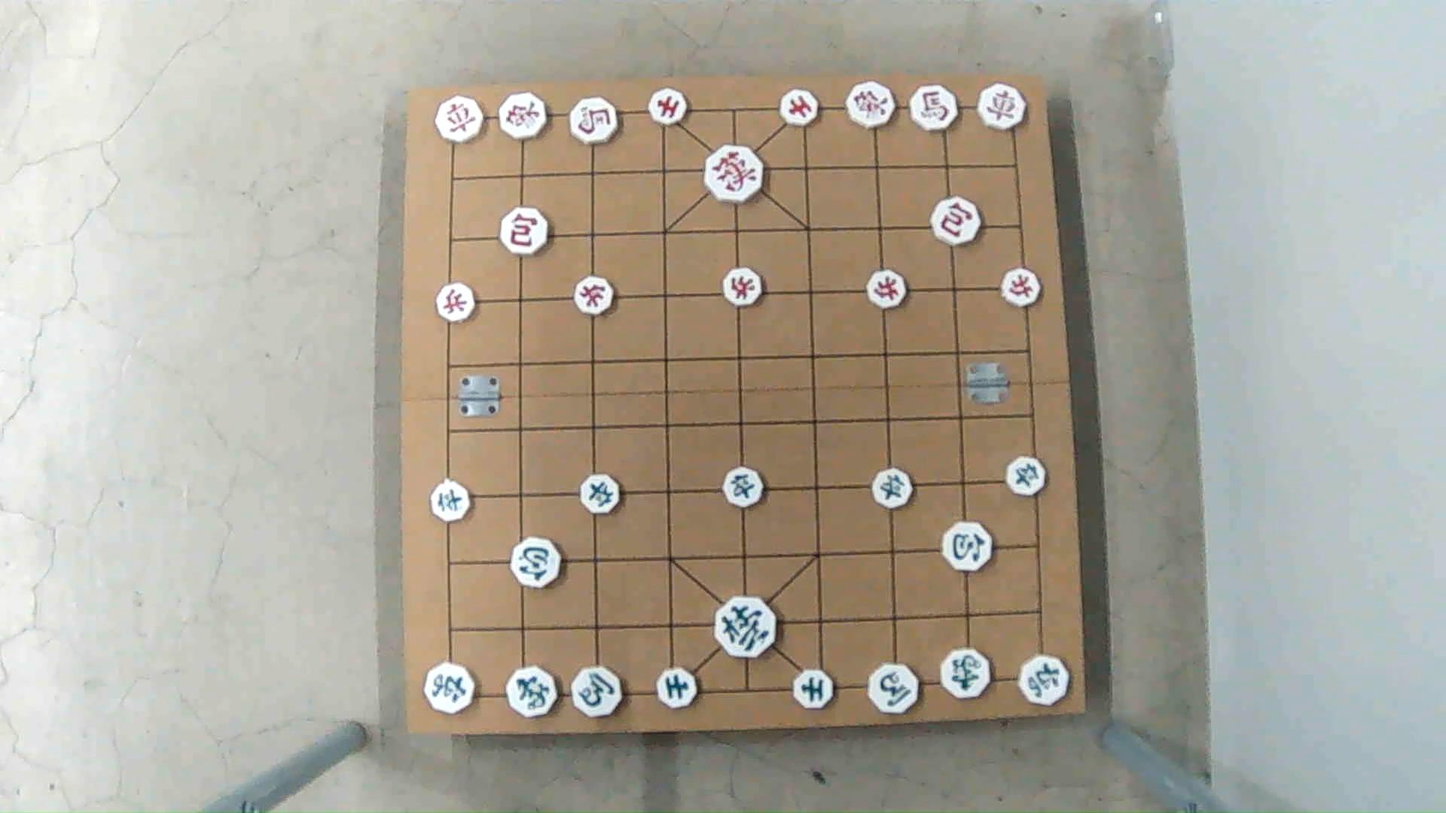cha_green: (424, 660, 474, 712), (1017, 658, 1072, 705)
cha_red: (975, 87, 1028, 130), (433, 100, 486, 142)
jol_green: (869, 469, 917, 504), (580, 478, 626, 514), (720, 471, 764, 507), (431, 485, 474, 521), (1005, 458, 1048, 494)
jol_red: (721, 269, 765, 305), (865, 271, 910, 306), (433, 287, 479, 321), (999, 271, 1043, 306), (571, 276, 615, 311)
ma_green: (569, 668, 626, 715), (868, 665, 923, 712)
ma_red: (568, 101, 620, 145), (910, 87, 961, 130)
po_green: (938, 525, 992, 570), (511, 540, 565, 584)
po_red: (929, 201, 983, 245), (499, 210, 551, 254)
sa_green: (654, 668, 698, 707), (791, 670, 835, 708)
sa_red: (778, 92, 822, 124), (648, 90, 689, 123)
sang_green: (938, 650, 991, 699), (507, 665, 557, 715)
sang_red: (499, 96, 553, 142), (845, 84, 898, 127)
wang_green: (715, 597, 779, 653)
wang_red: (704, 151, 769, 202)
